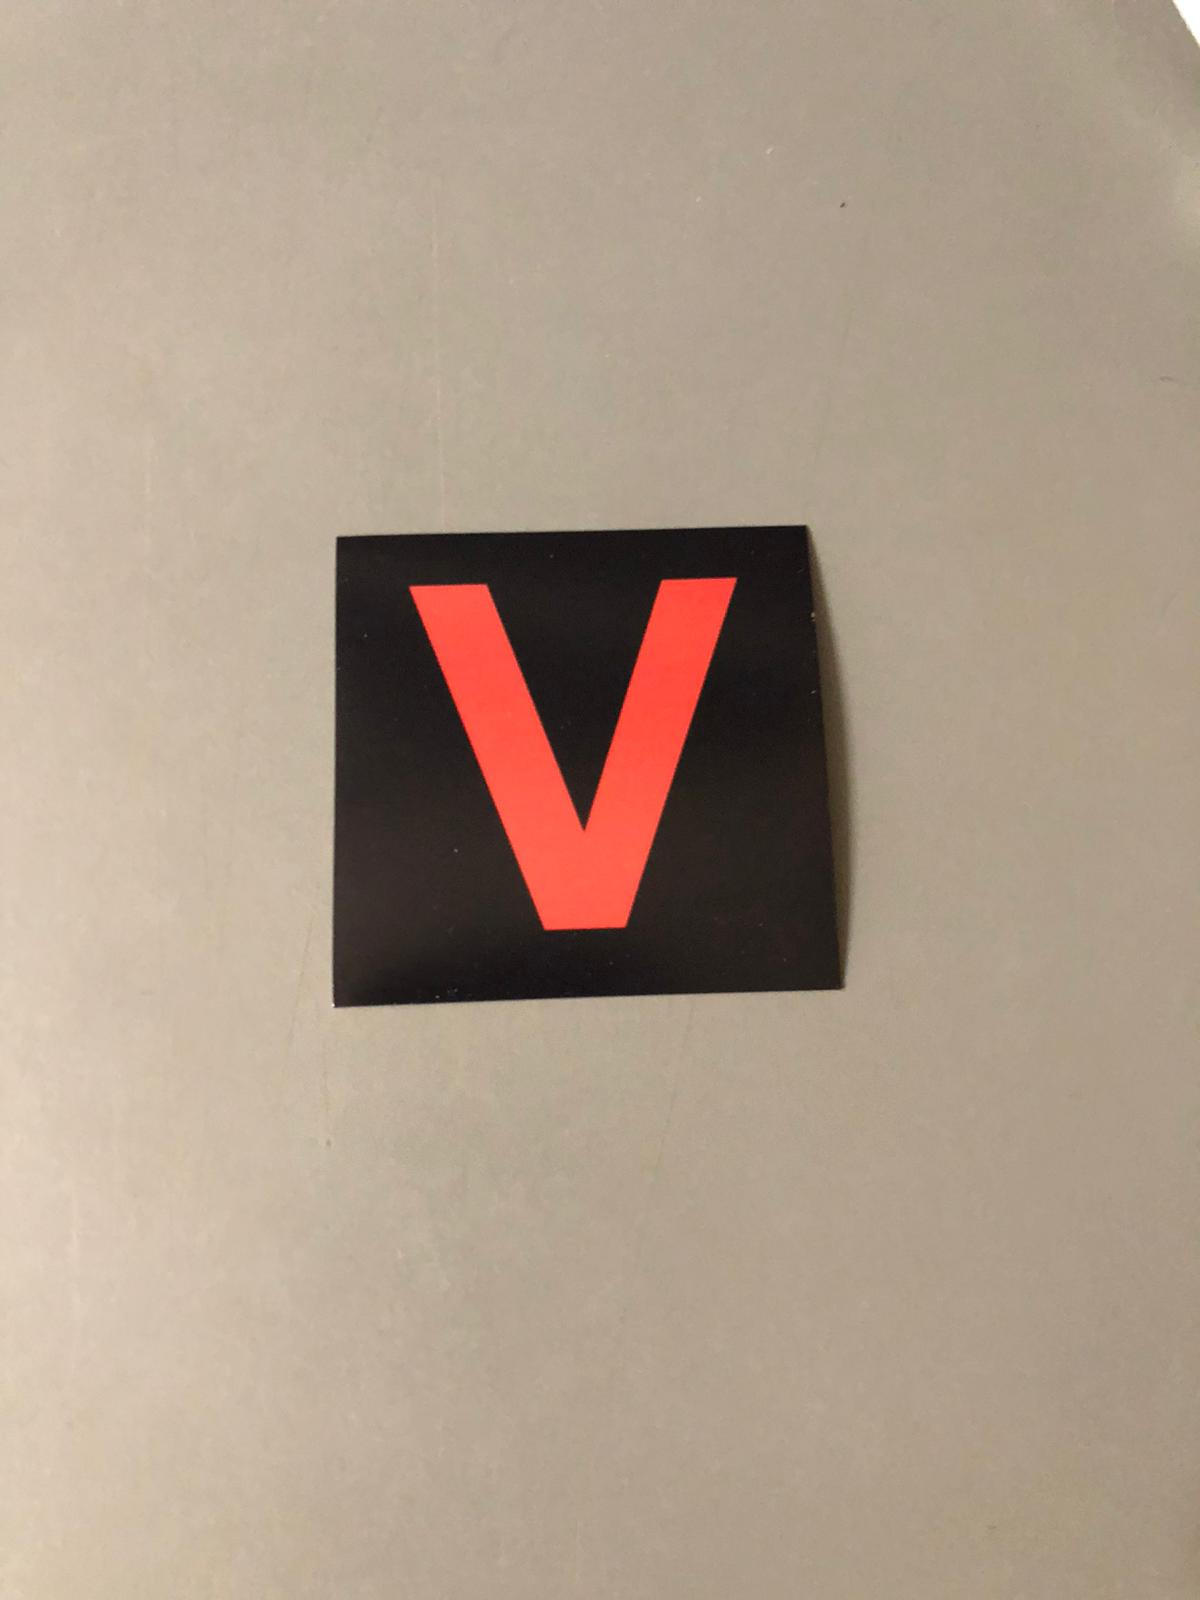V: (338, 556, 811, 963)
